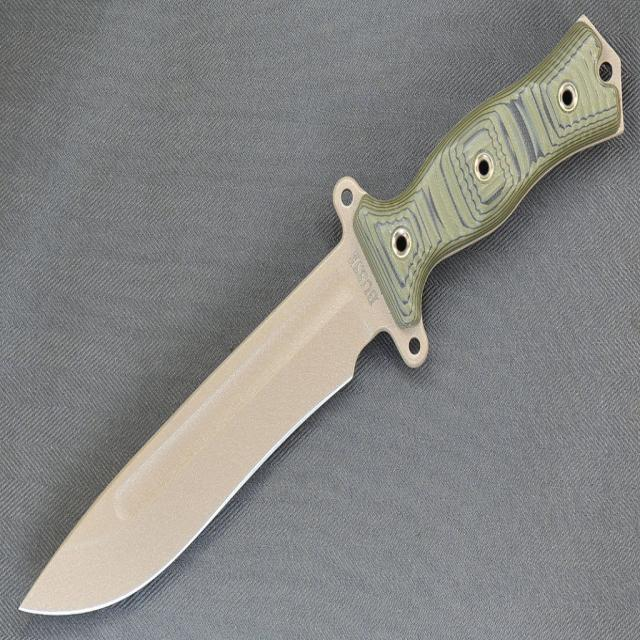Knife: (21, 16, 624, 614)
